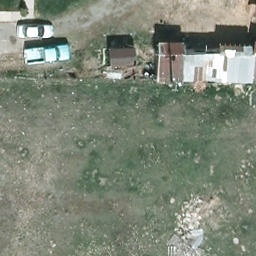car: (17, 21, 55, 40)
pickup: (21, 43, 72, 65)
